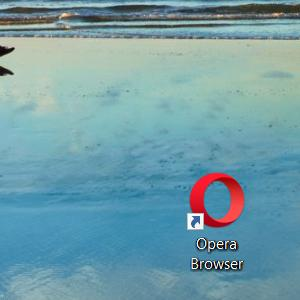opera: (187, 174, 244, 230)
